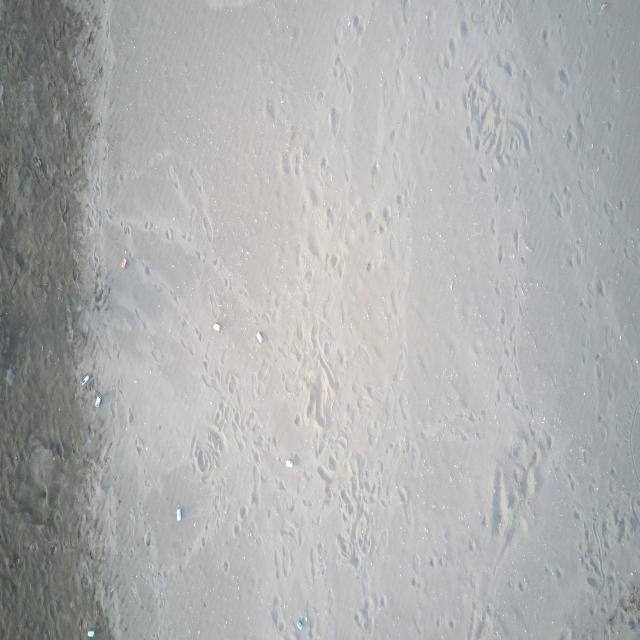tin-and-aluminum-cans: (212, 322, 222, 332), (95, 394, 102, 408), (87, 628, 95, 640), (256, 331, 263, 344), (81, 375, 90, 385), (176, 508, 182, 523), (284, 459, 294, 468), (296, 619, 303, 631), (121, 256, 127, 268)
